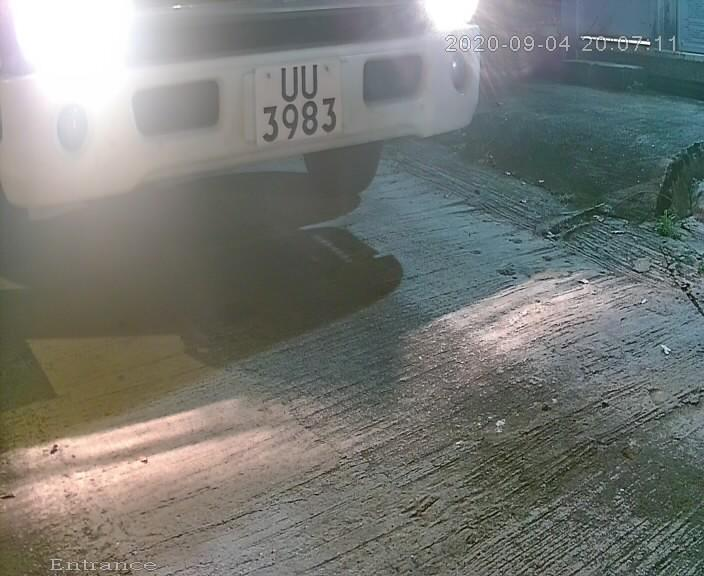License Plate: (227, 37, 362, 170)
